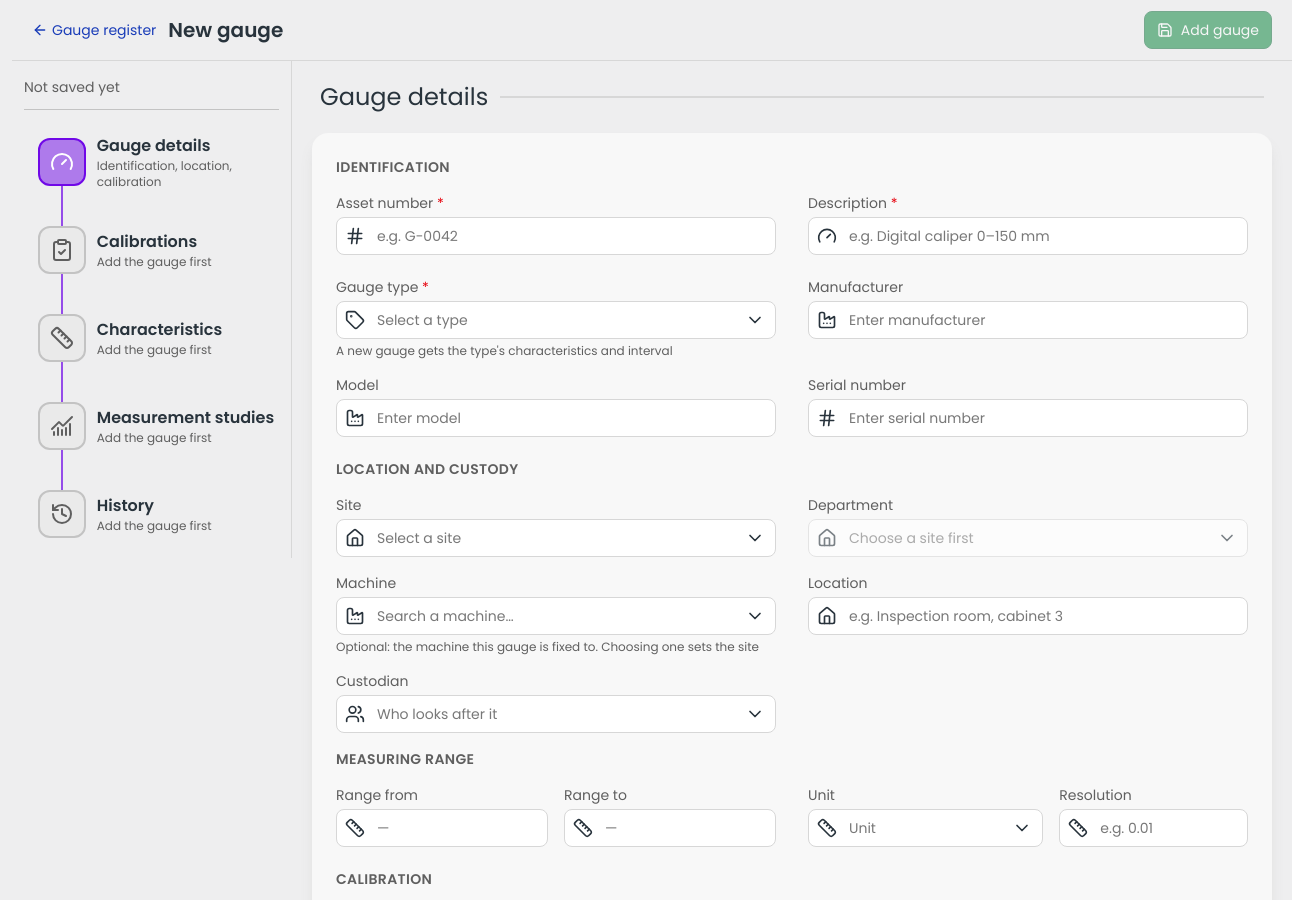
Test: gauge page › adds a gauge of a type
Type "G-009" into the field labelled "Asset number" at (556, 236), box left=377, top=218, right=735, bottom=254
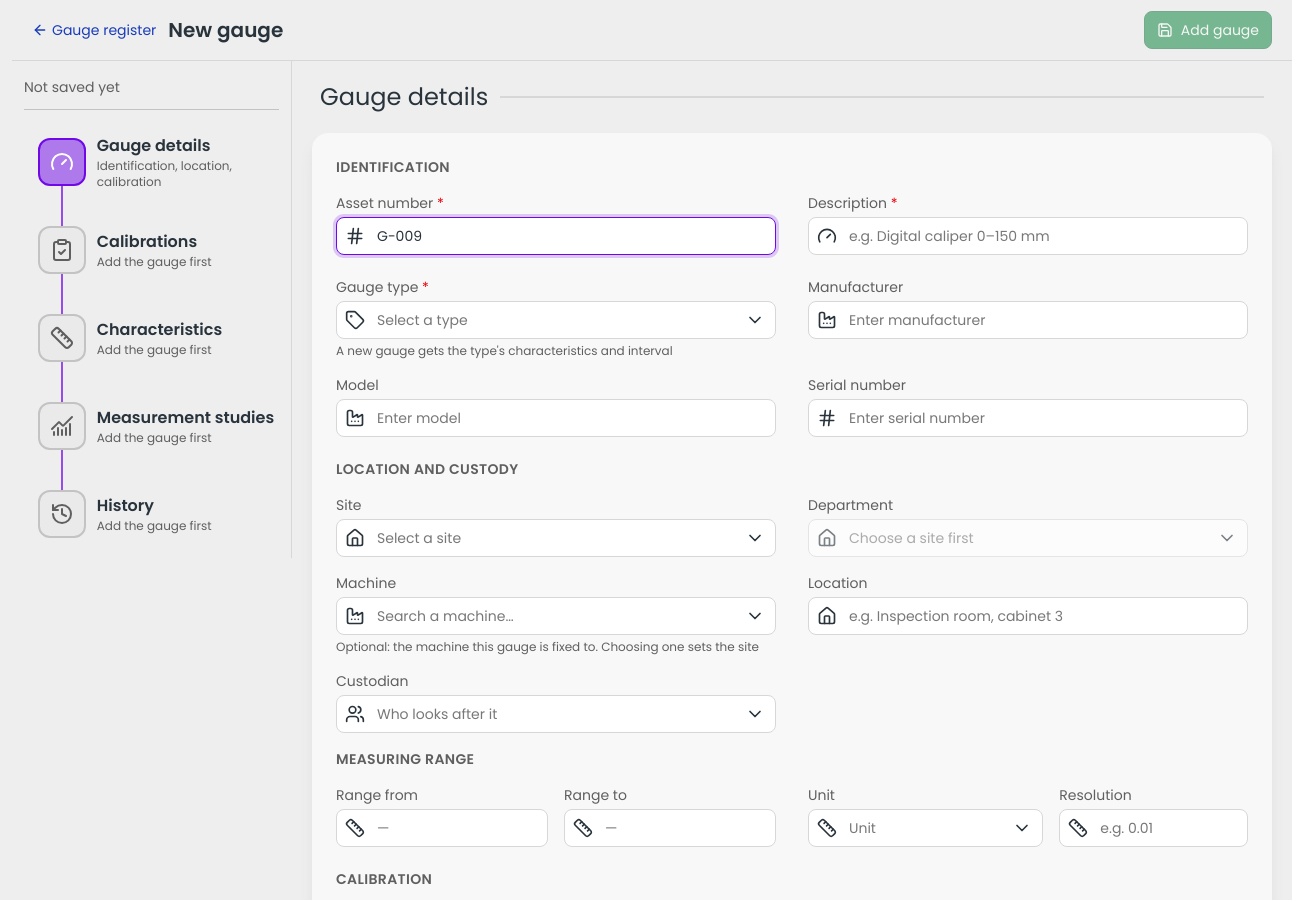
Type "Bore gauge" into the field labelled "Description" at (1028, 236), box left=849, top=218, right=1207, bottom=254
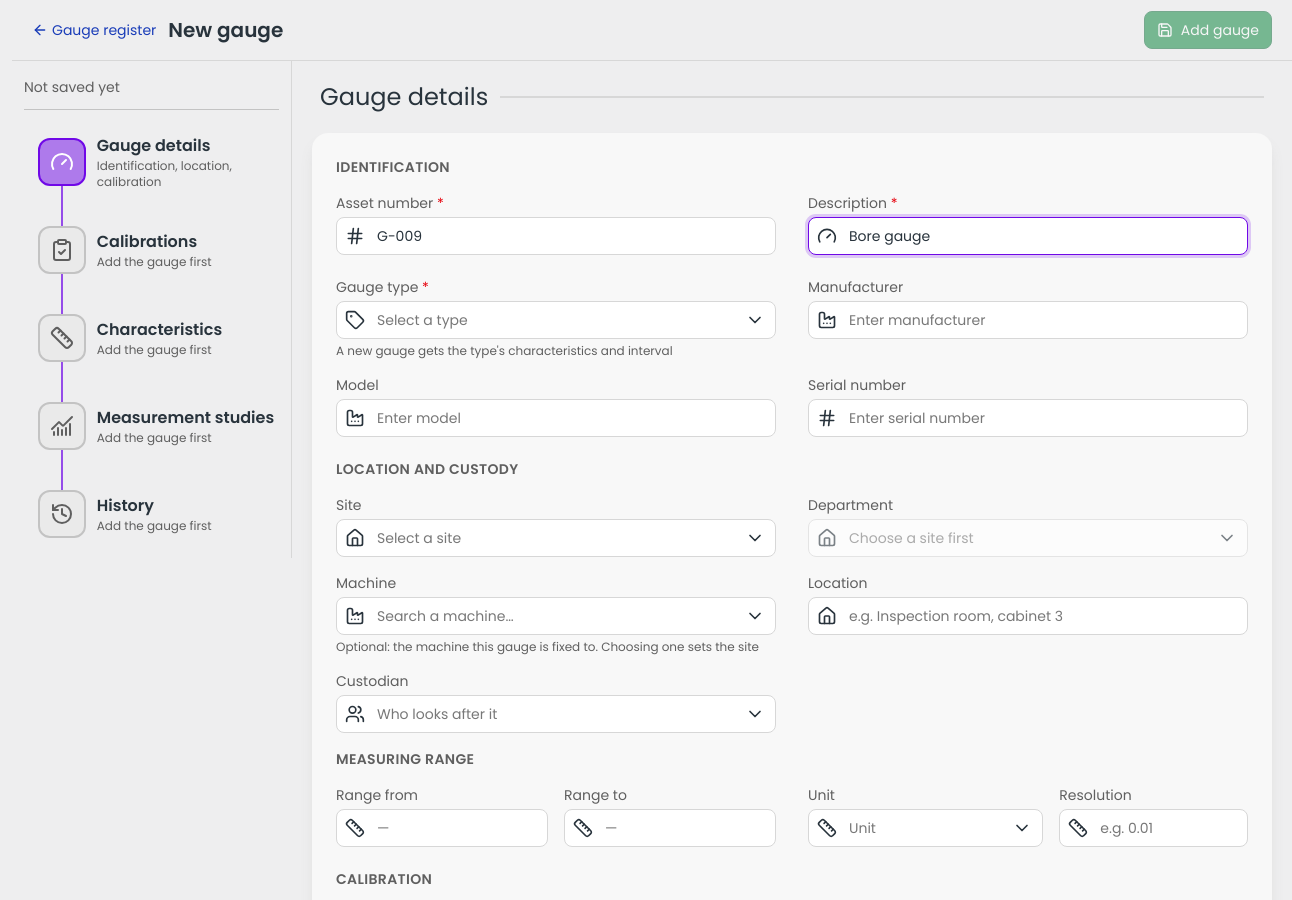
Click the dropdown labelled "Gauge type" at (554, 320), box left=377, top=310, right=731, bottom=330
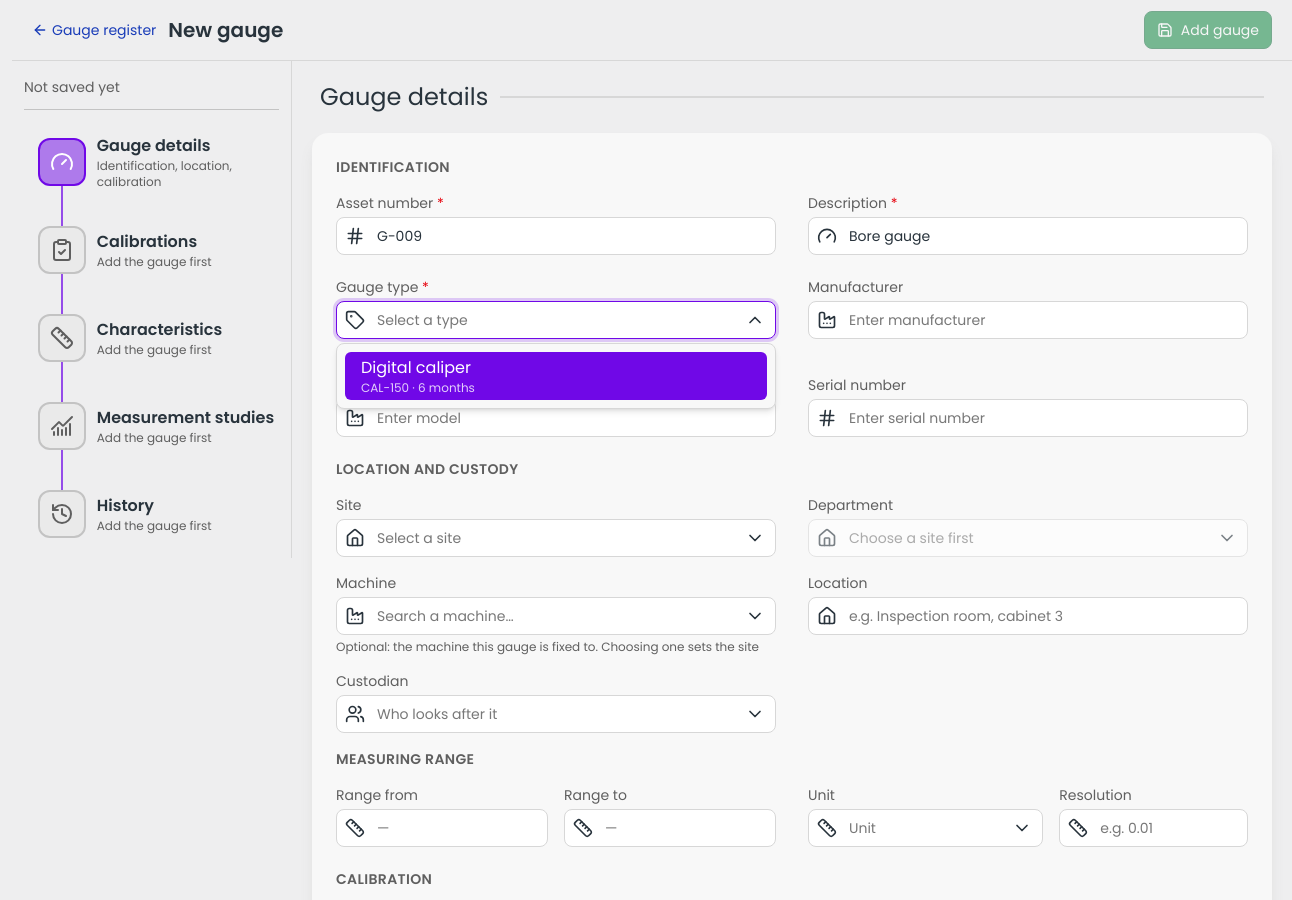
Click the option "Digital caliper CAL-150 · 6 months" at (556, 376), box left=337, top=348, right=775, bottom=404
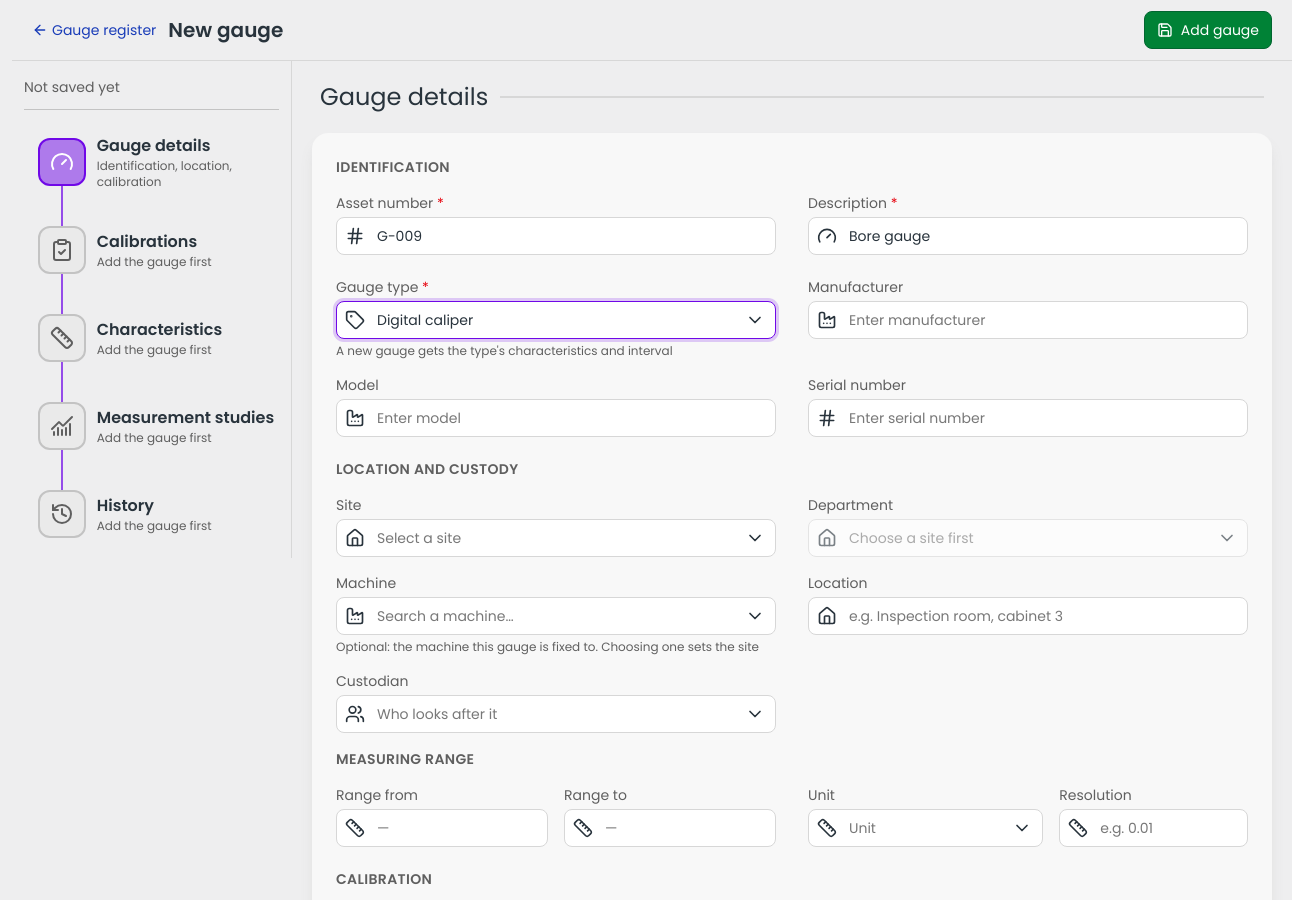
Click the button "Add gauge" at (1208, 30), box left=1144, top=11, right=1272, bottom=49
(page scrolled)
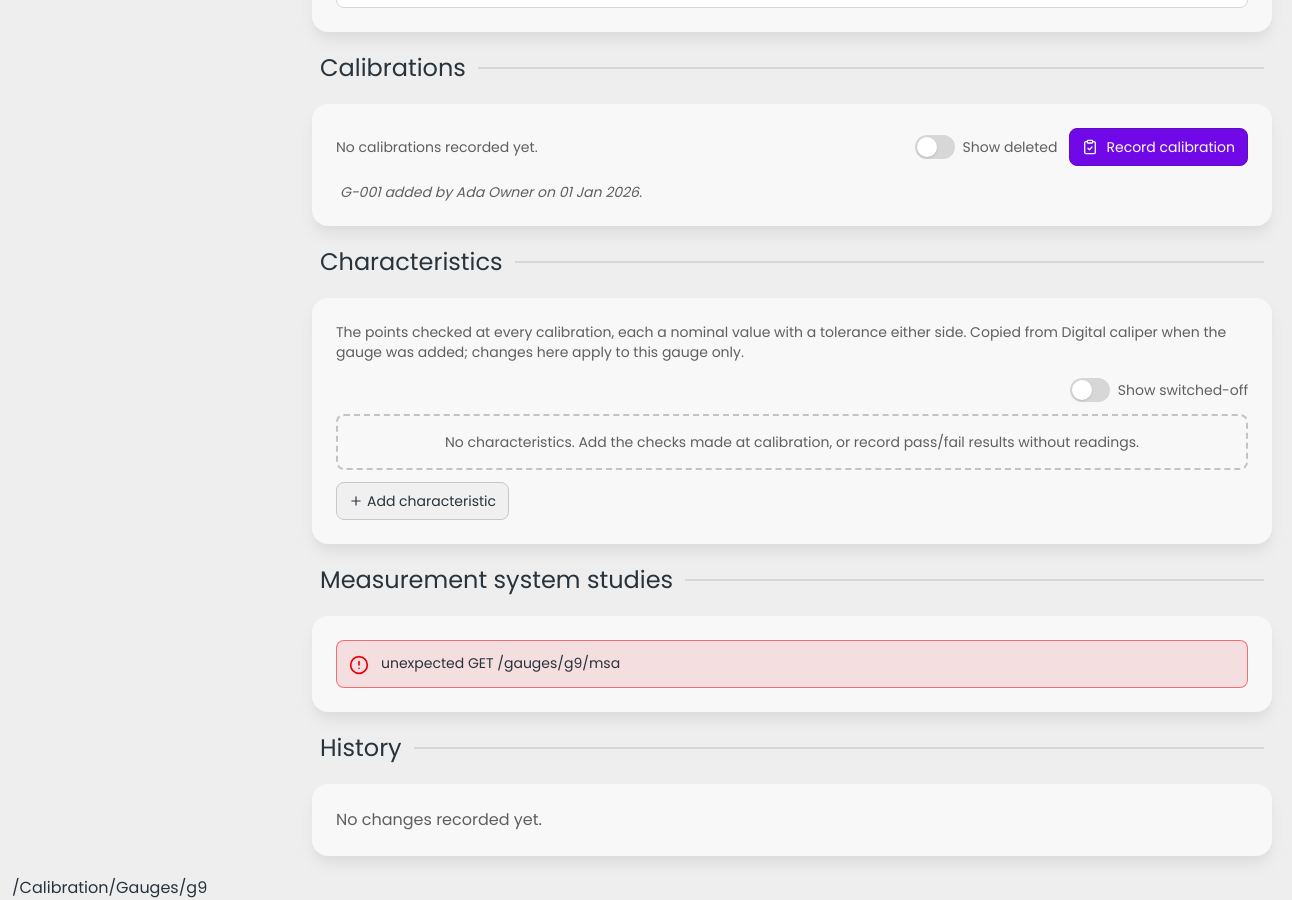
Expected: the text with test id "where" reads "/Calibration/Gauges/g9", left=12, top=876, right=207, bottom=899
